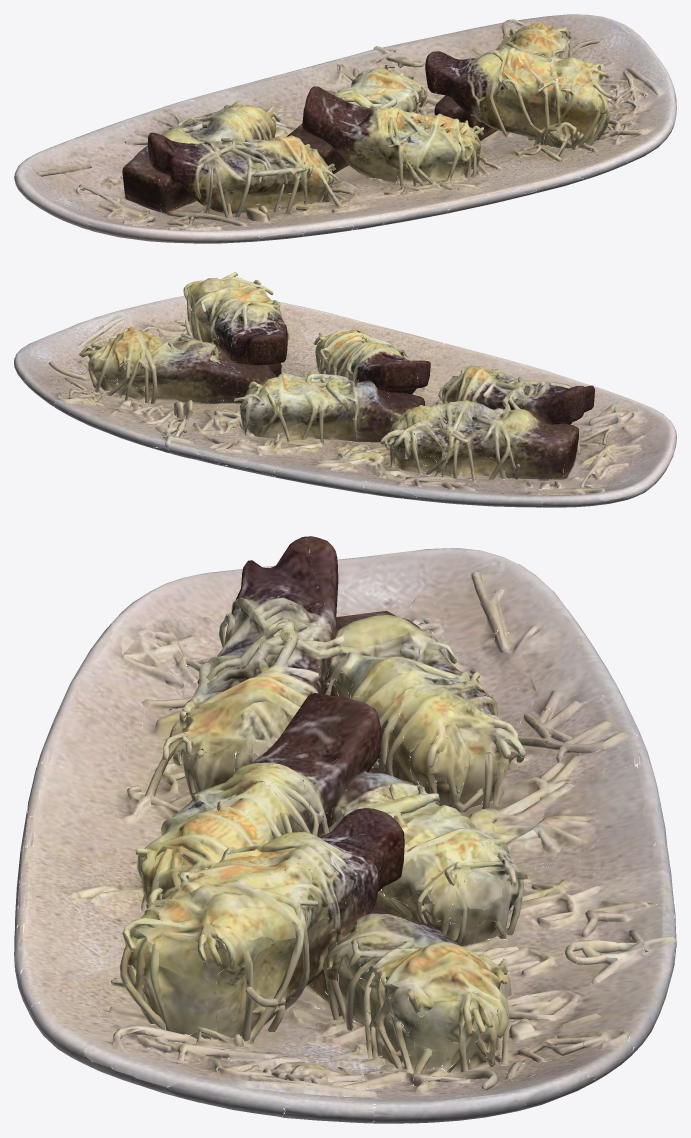
Rendered from desert_bites.glb.
3 renders of one model, top to bottom at view 1: azimuth 30°, elevation 25°; view 2: azimuth 150°, elevation 25°; view 3: azimuth 270°, elevation 25°, orthographic. The views are drawn at different scales.
Visible parts, largest first — view 1: tripo_node_844c5c6d-4c7f-4bf3-9fbd-038115166dfb; view 2: tripo_node_844c5c6d-4c7f-4bf3-9fbd-038115166dfb; view 3: tripo_node_844c5c6d-4c7f-4bf3-9fbd-038115166dfb.
Boxes of the visible parts, x1,y1,x2,y2 form: tripo_node_844c5c6d-4c7f-4bf3-9fbd-038115166dfb: (14, 14, 676, 243); tripo_node_844c5c6d-4c7f-4bf3-9fbd-038115166dfb: (14, 272, 676, 507); tripo_node_844c5c6d-4c7f-4bf3-9fbd-038115166dfb: (14, 536, 676, 1123).
Size of the model in its own units: 0.9795 by 0.1447 by 0.4934.
1 material, 1 textured.
